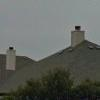Chimney: (60, 20, 92, 56)
